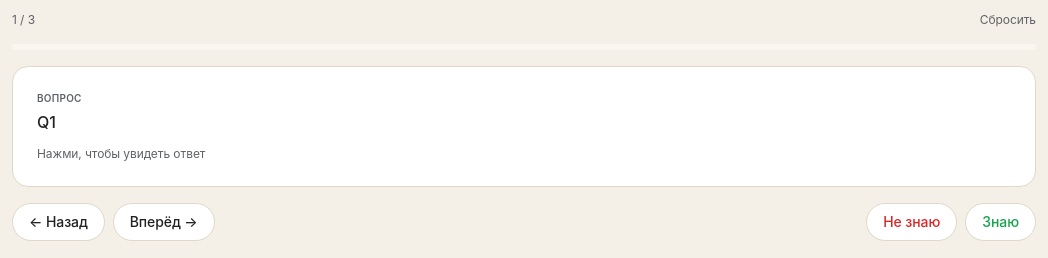
Test: FlashcardDeck › marks a card as known, auto-advances, and updates the progress count
Click the button with test id "flashcard-known": (1001, 222) [965,203,1036,241]
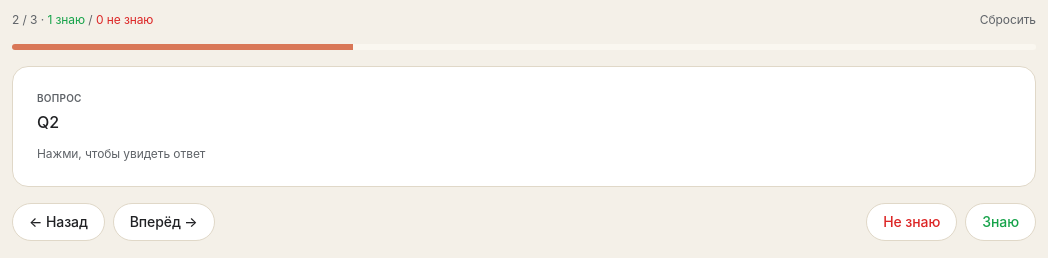
Expected: the text "Q2" is shown, [37,112,59,132]
Expected: the text "1 знаю" is shown, [47,12,85,27]
